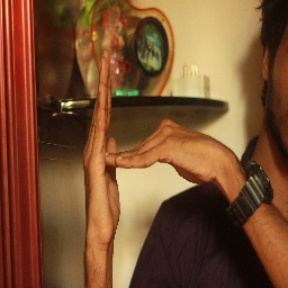Z: (78, 42, 216, 242)
